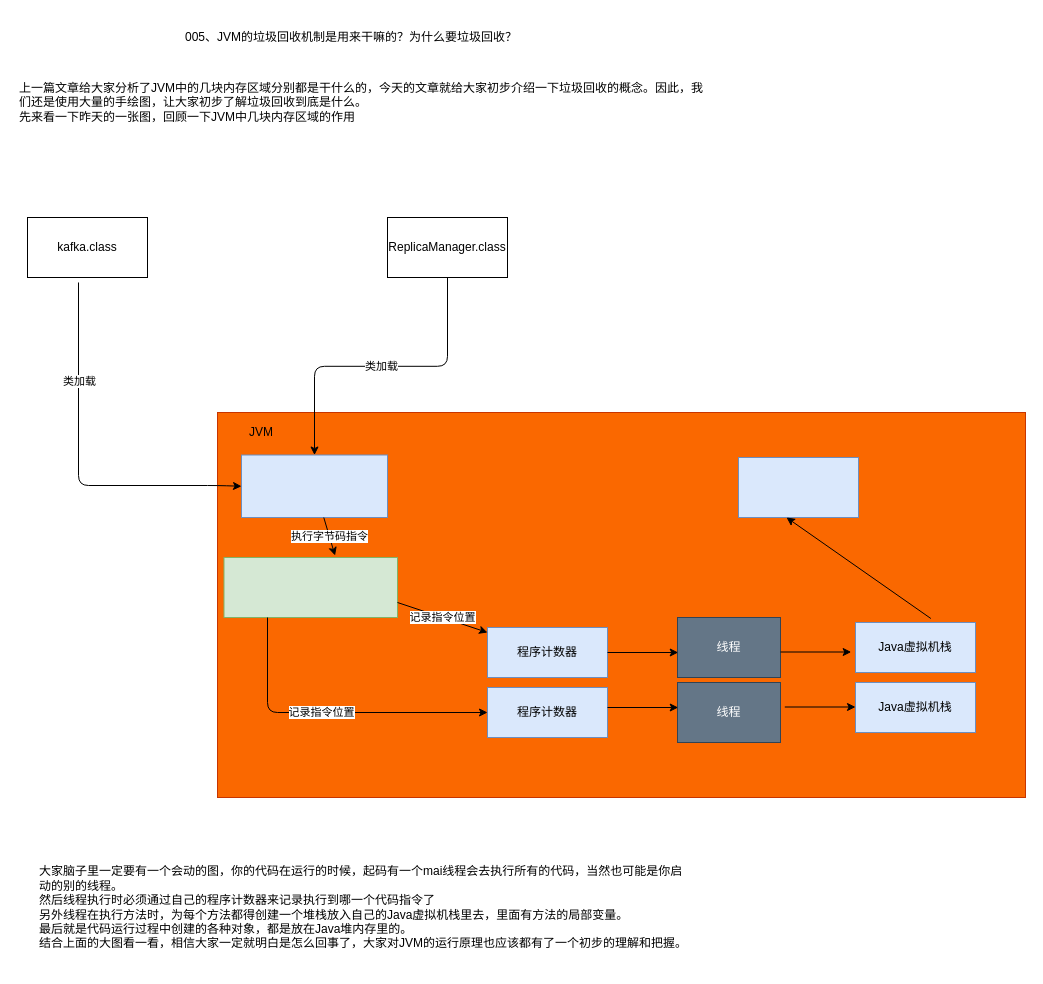
The diagram is 1043 pixels wide and 984 high, and some of its shapes have lost their labels. The shapes that lost their labels are listed below. From the top down, each one's centre as x and y in pixels, then its label:
point 314,486: 方法区 class Kafka class ReplicaManager
point 798,487: Java堆内存
point 310,587: 字节码执行引擎
